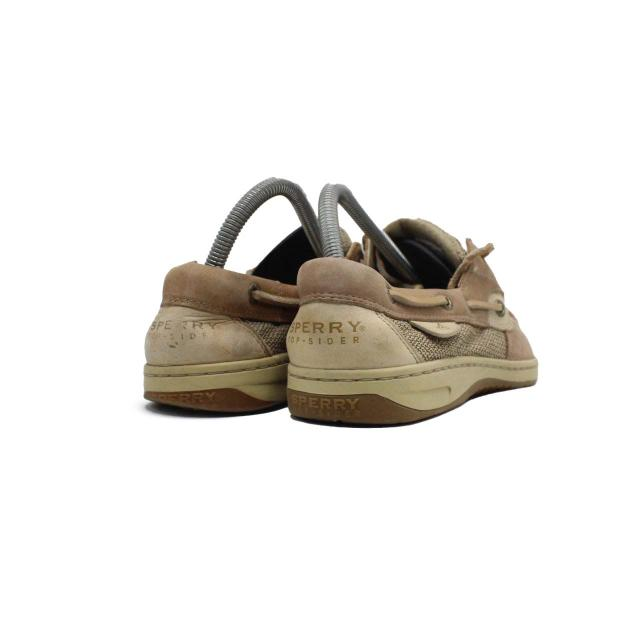heel: (146, 263, 299, 365), (289, 257, 418, 369)
midsole: (289, 357, 534, 425), (142, 354, 289, 416)
